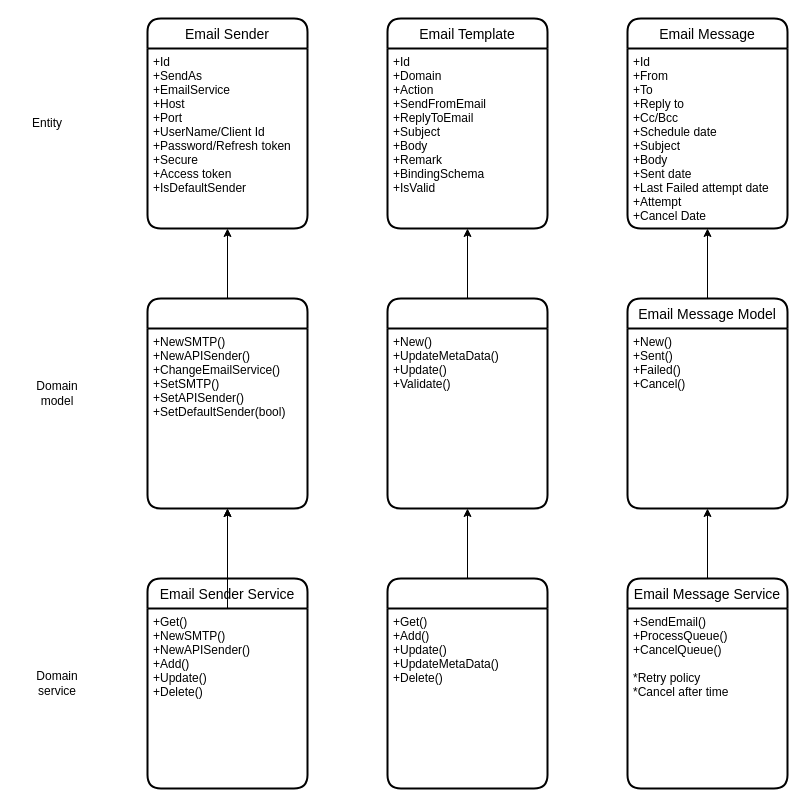
The diagram is 805 pixels wide and 806 high, and some of its shapes have lost their labels. Here are the shapes that lost their labels. From the top down, the box of each, then its label:
(146, 297, 308, 509): Email Sender Model
(386, 297, 548, 509): Email Template Model
(386, 577, 548, 789): Email Template Service
